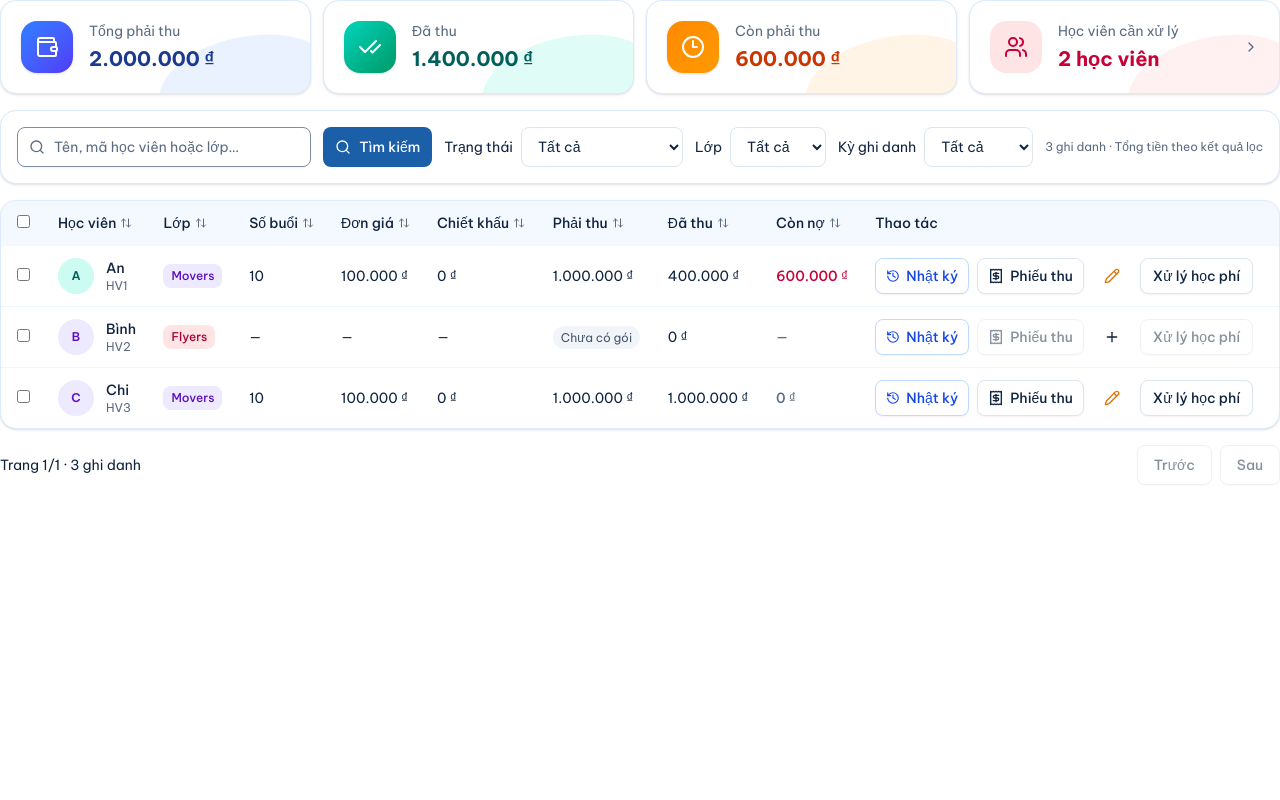
it: opens a matching financial list for the Tổng phải thu card
The image size is (1280, 800).
Click the button "Tổng phải thu 2.000.000 ₫": [156, 47] box x1=0 y1=0 x2=311 y2=94
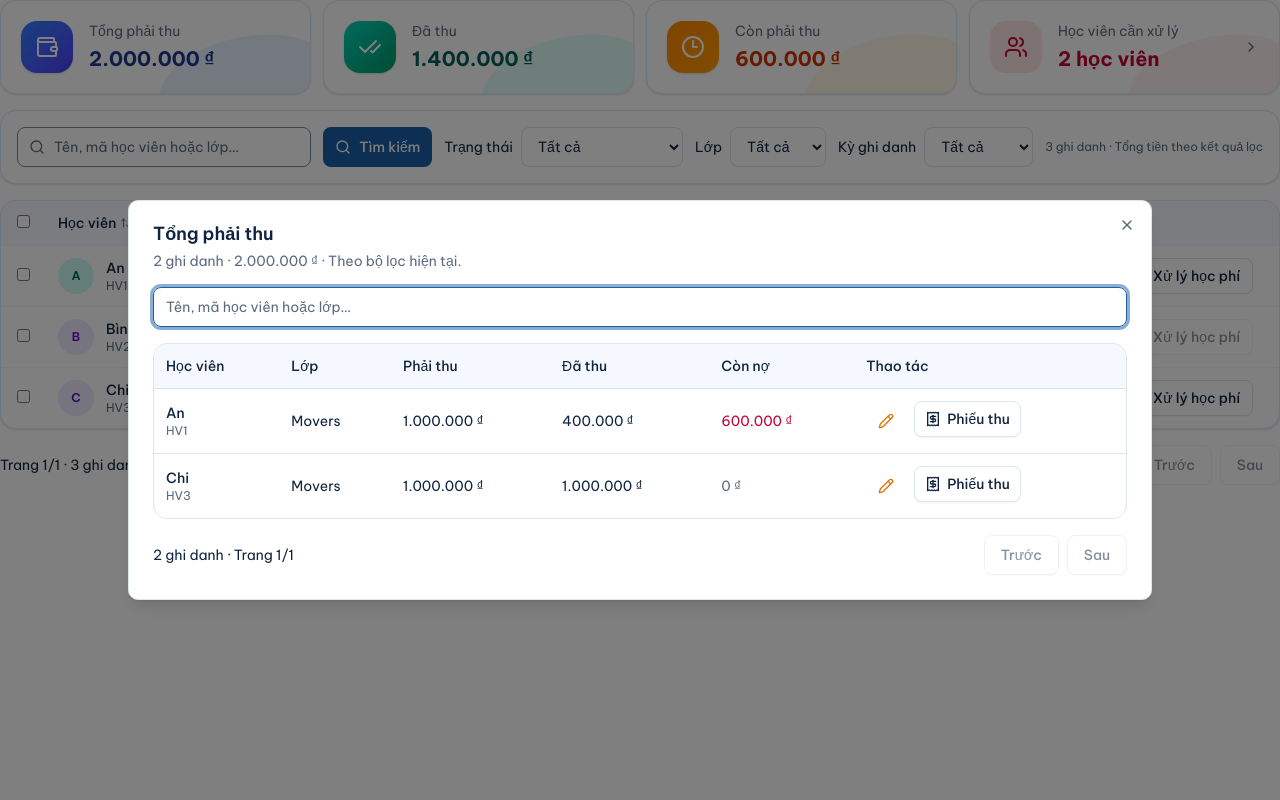
Expected: the dropdown named "Lọc trạng thái học phí" shows "Tất cả", x1=521 y1=127 x2=683 y2=167
Expected: the text "An" is shown, x1=166 y1=404 x2=185 y2=422
Expected: the text "Chi" is shown, x1=166 y1=469 x2=189 y2=487
